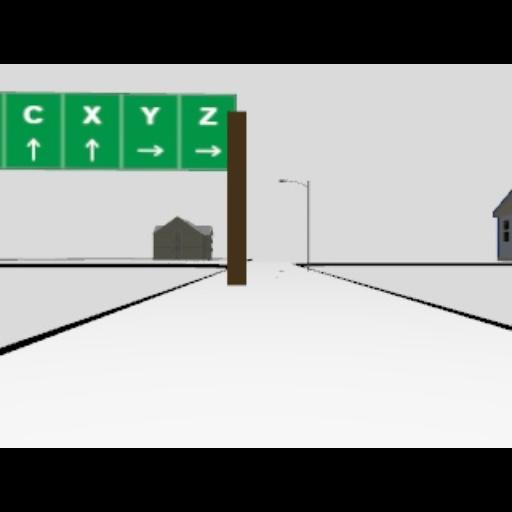C: (22, 104, 44, 124)
Right: (194, 144, 222, 156), (136, 144, 164, 156)
Straight: (26, 138, 40, 160), (85, 138, 99, 160)
X: (82, 104, 100, 124)
Y: (140, 106, 160, 124)
Z: (196, 106, 218, 124)
